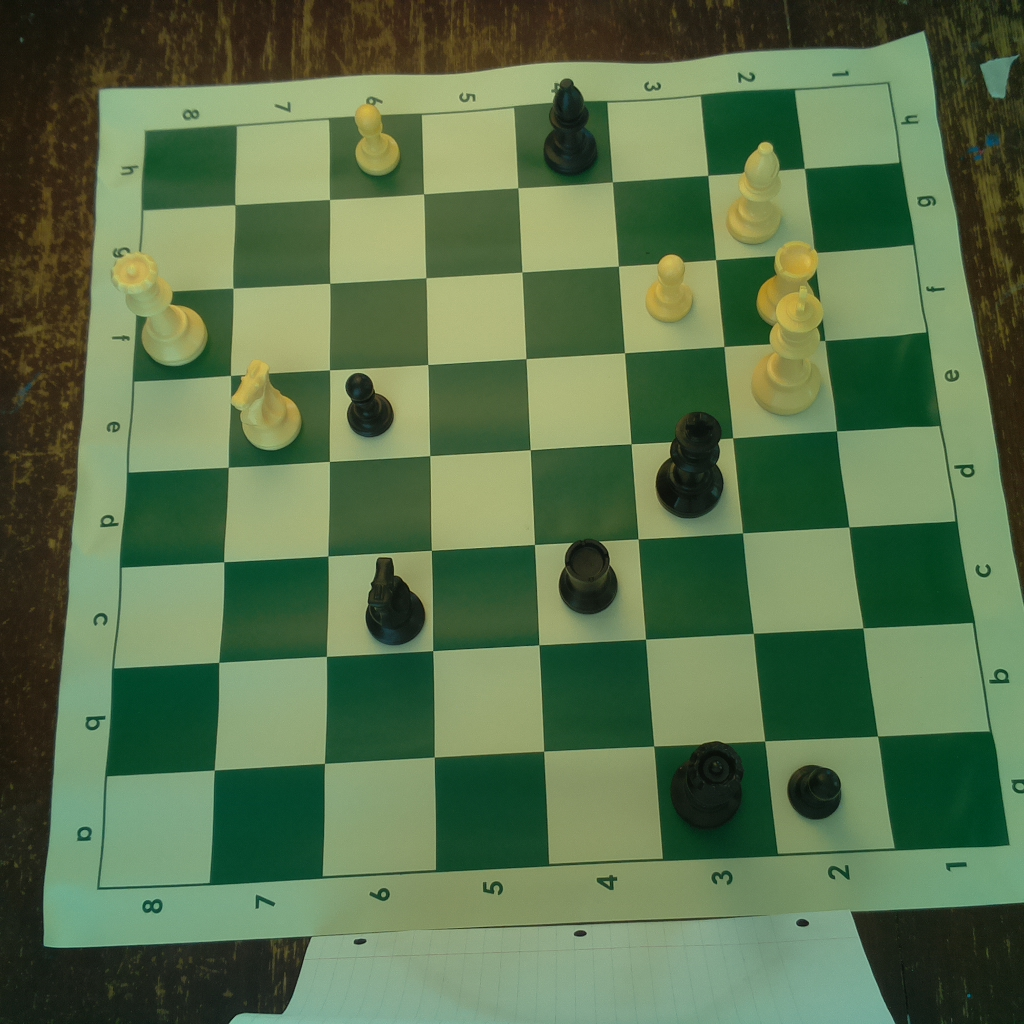black_bishop: (540, 74, 601, 174)
black_king: (655, 406, 727, 522)
black_knight: (355, 554, 427, 645)
black_pawn: (784, 754, 849, 826), (342, 370, 396, 440)
black_queen: (667, 739, 751, 834)
black_rook: (551, 532, 621, 618)
file_a: (96, 732, 1011, 887)
file_b: (102, 623, 989, 778)
file_c: (114, 523, 973, 669)
file_d: (121, 426, 955, 564)
file_e: (127, 332, 940, 477)
file_f: (134, 245, 929, 384)
file_g: (133, 165, 916, 297)
file_h: (140, 86, 902, 214)
outline: (99, 83, 1012, 888)
rank_1: (796, 83, 1010, 851)
rank_2: (702, 87, 894, 853)
rank_3: (607, 96, 779, 860)
rank_4: (516, 97, 666, 865)
rank_5: (420, 106, 549, 873)
rank_6: (321, 113, 438, 874)
rank_7: (208, 118, 331, 884)
rank_8: (96, 126, 236, 887)
white_bishop: (724, 139, 788, 249)
white_king: (753, 283, 828, 414)
white_knight: (225, 353, 305, 452)
white_pawn: (345, 100, 407, 180), (644, 249, 702, 323)
white_queen: (108, 249, 215, 367)
white_rook: (755, 239, 823, 330)
